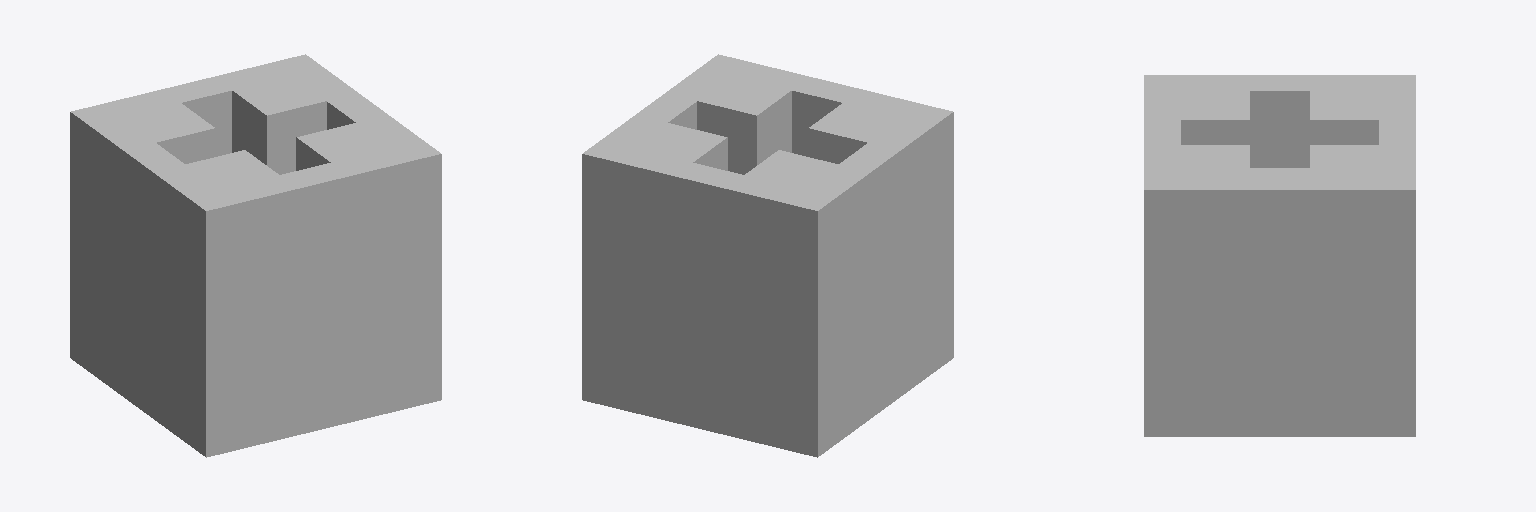
The model's file is Cross_cube_bottle_preprocessed.obj.
The picture shows the model from 3 angles: view 1: azimuth 30°, elevation 25°; view 2: azimuth 150°, elevation 25°; view 3: azimuth 270°, elevation 25°; orthographic projection.
Size of the model in its own units: 0.08 by 0.08 by 0.08.